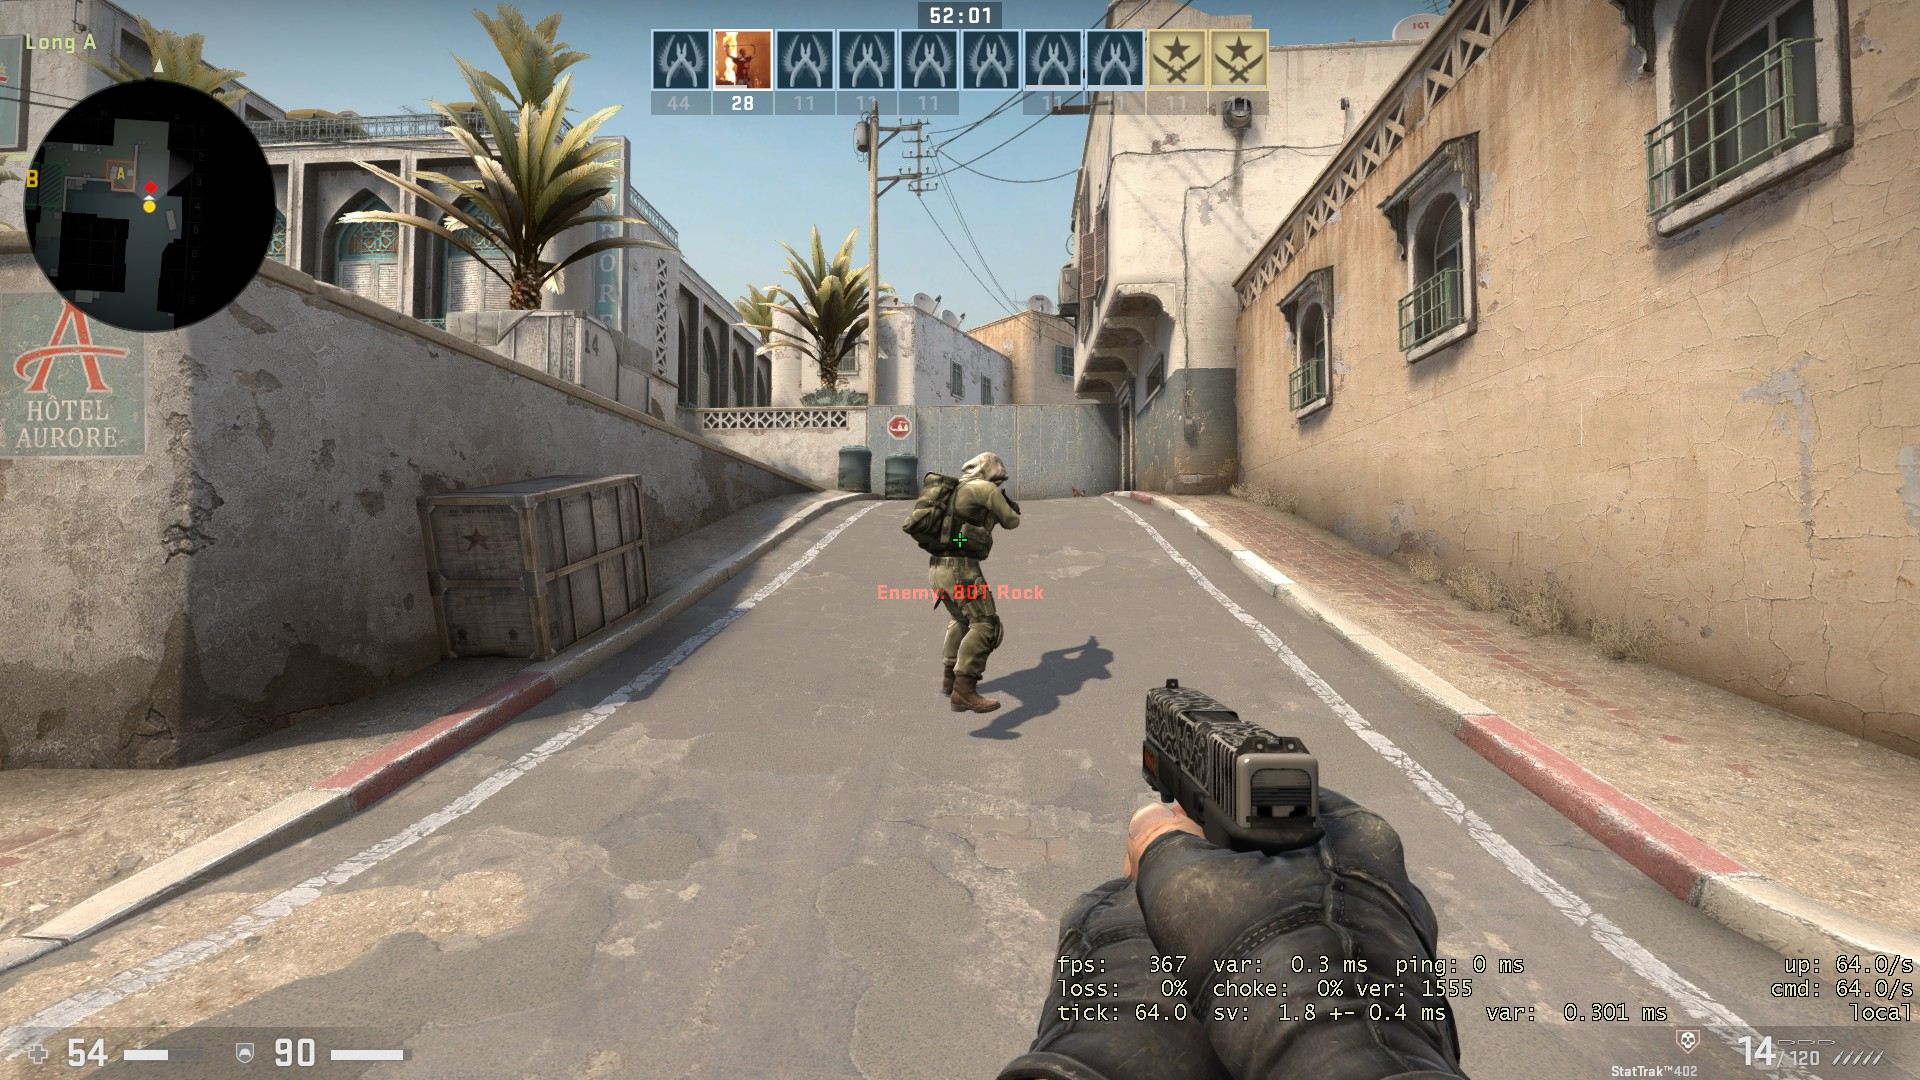ct: (891, 443, 1026, 720)
player: (896, 444, 1026, 723)
